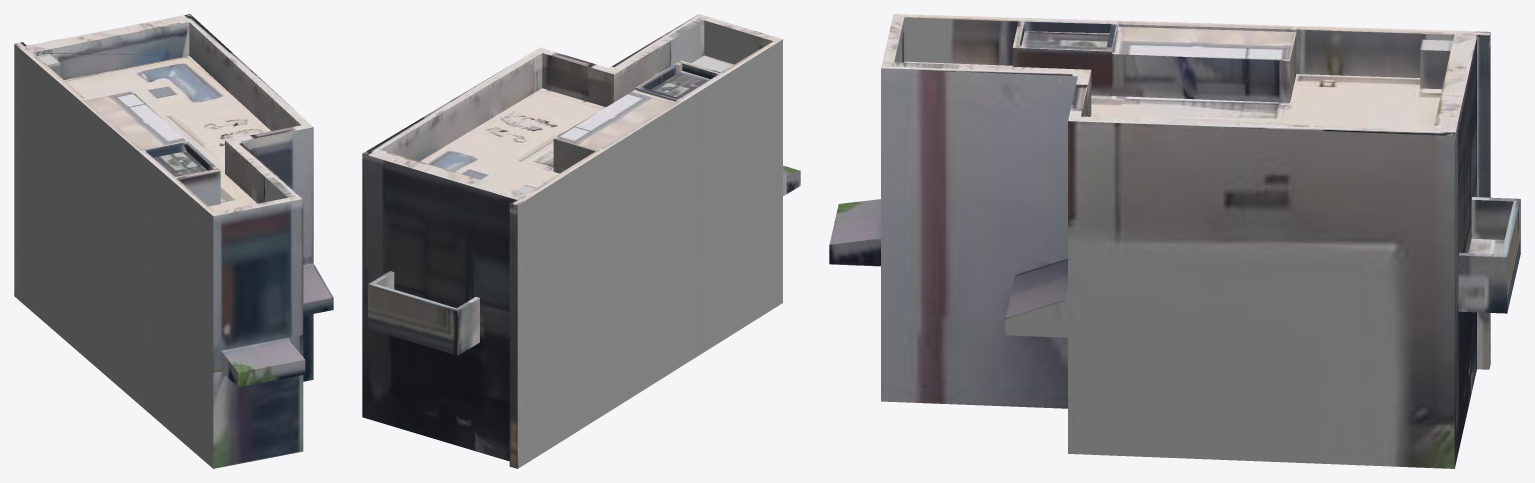
3 renders of one model, left to right at view 1: azimuth 30°, elevation 25°; view 2: azimuth 150°, elevation 25°; view 3: azimuth 270°, elevation 25°, orthographic. The views are drawn at different scales.
Visible parts, largest first — view 1: B284834037701062A0; view 2: B284834037701062A0; view 3: B284834037701062A0.
Part boxes in pixels (left/top/right/bottom): B284834037701062A0: left=14, top=14, right=333, bottom=468; B284834037701062A0: left=362, top=14, right=800, bottom=468; B284834037701062A0: left=829, top=14, right=1520, bottom=468.
Bounding box in the file's own units: 7.32 × 9.3 × 17.5.
1 material, 1 textured.
